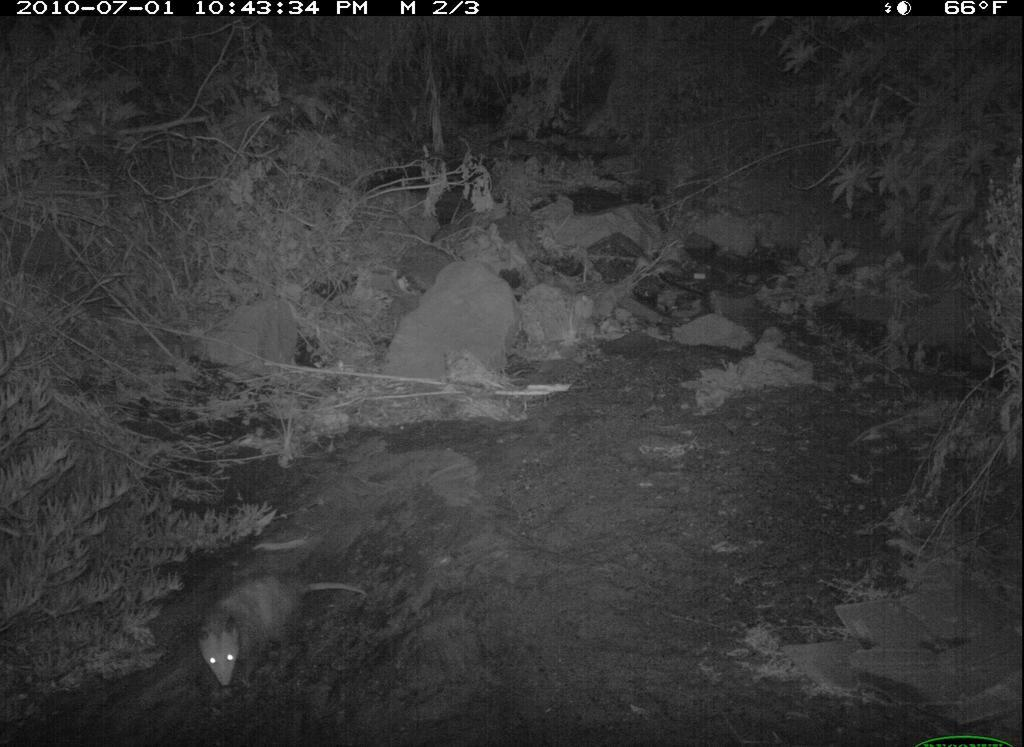opossum: (191, 565, 374, 701)
